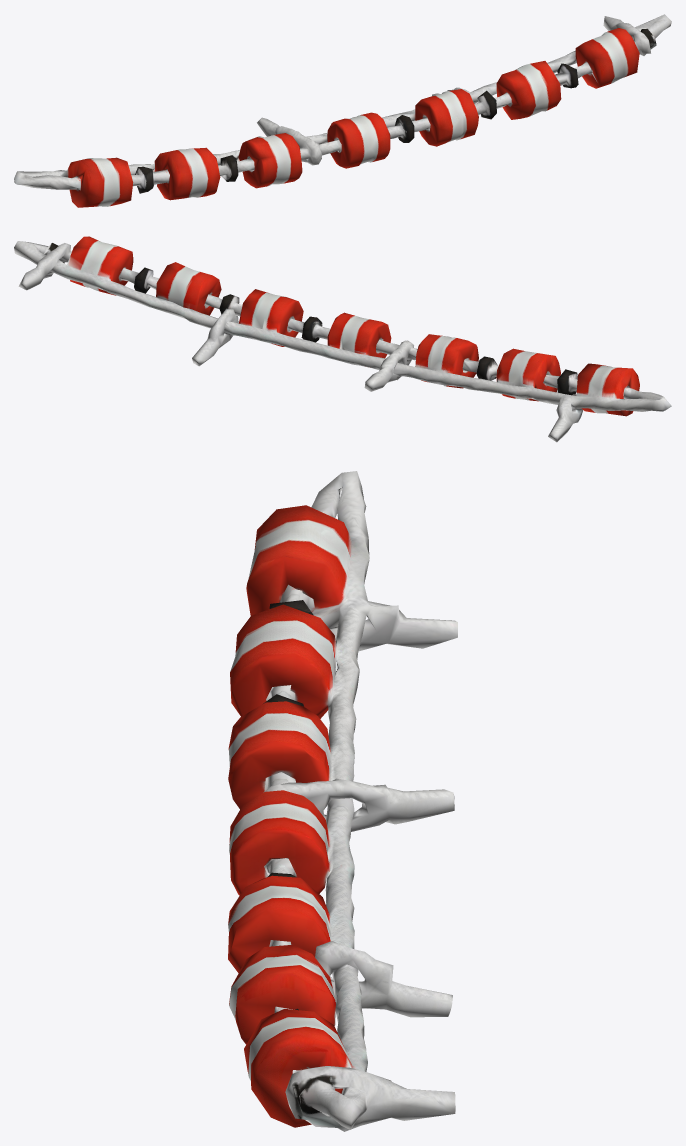
Rendered from tripo_convert_730d9093-b3df-4555-9daf-f7bbcda6cd61.fbx.
3 views of the same model, one above another, from view 1: azimuth 30°, elevation 25°; view 2: azimuth 150°, elevation 25°; view 3: azimuth 270°, elevation 25° (orthographic). The views are drawn at different scales.
Parts seen in each view (by area): view 1: tripo_node_730d9093; view 2: tripo_node_730d9093; view 3: tripo_node_730d9093.
Boxes of the visible parts, x1,y1,x2,y2 form: tripo_node_730d9093: (14,14,671,207); tripo_node_730d9093: (14,236,671,442); tripo_node_730d9093: (228,471,457,1131).
Bounding box in the file's own units: 0.9818 × 0.0922 × 0.1493.
Materials: 1 (1 with a texture image).
